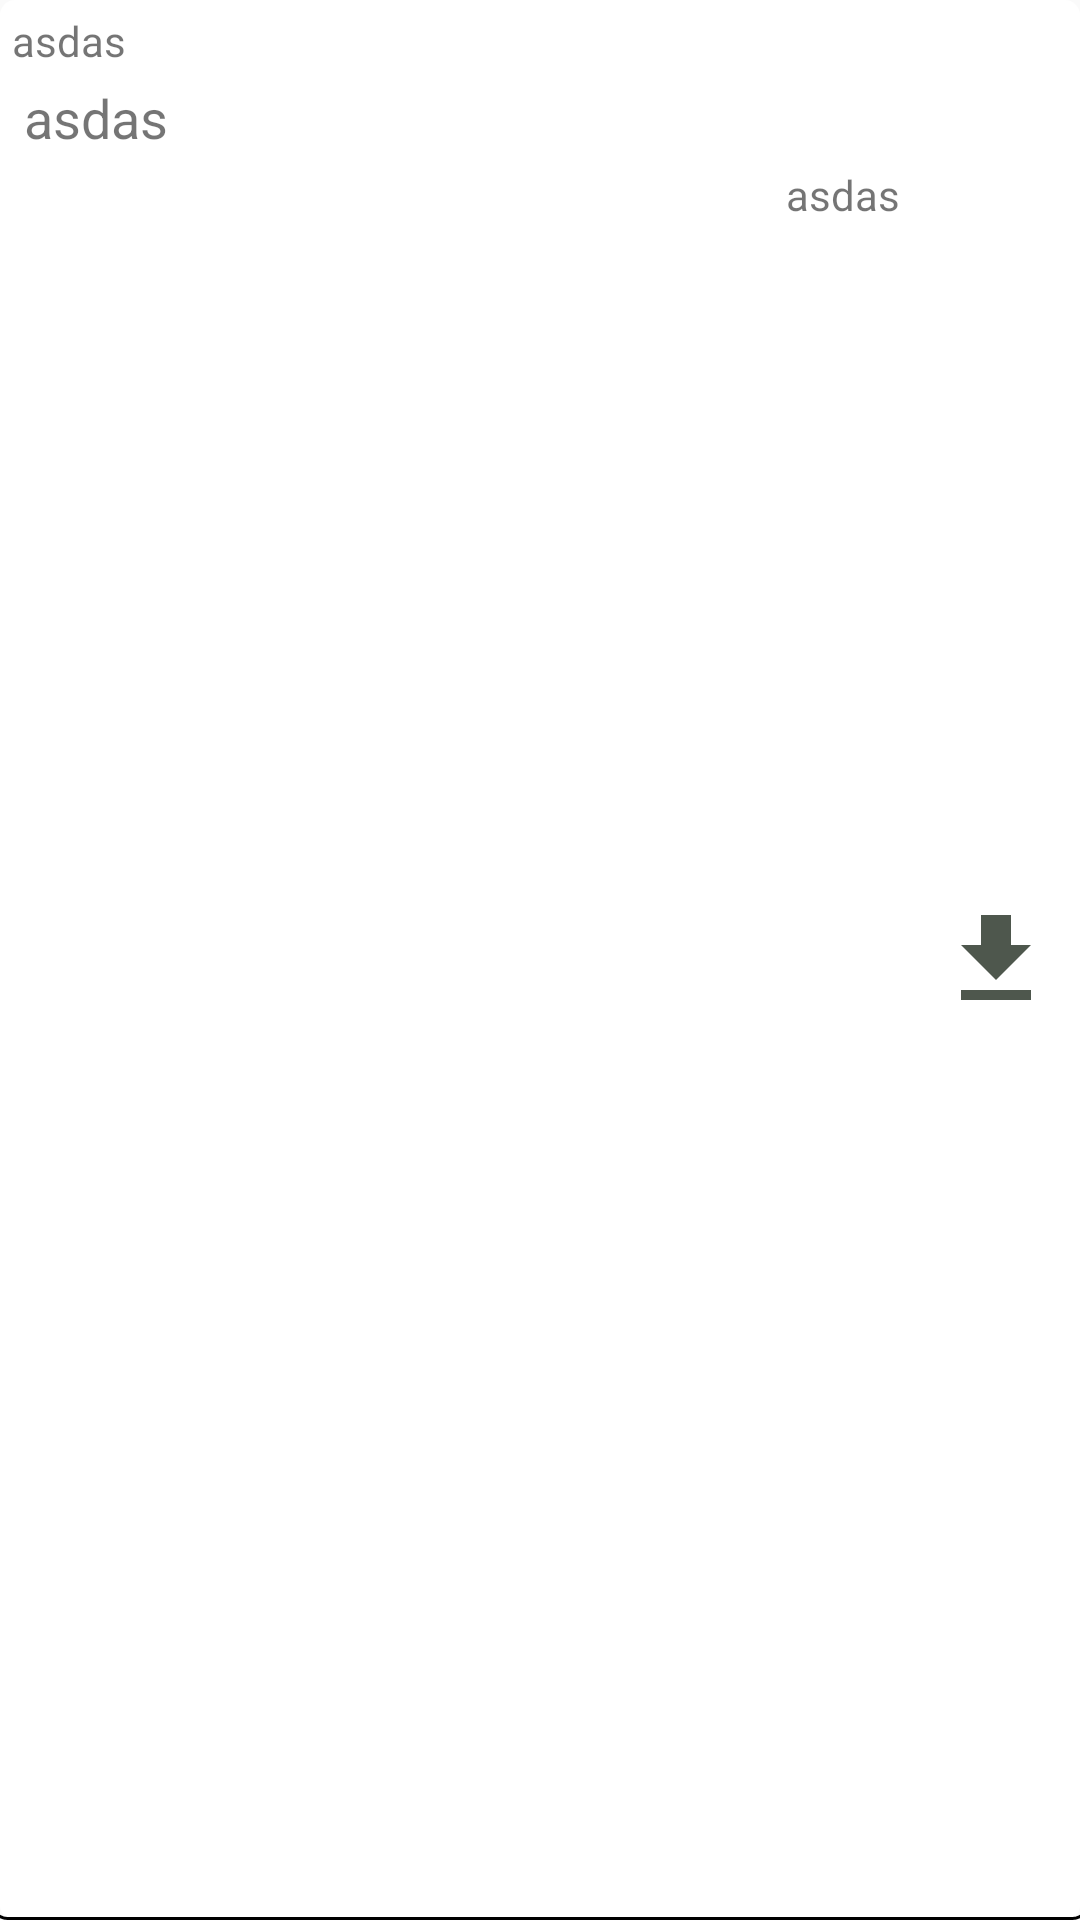

Where to tap for icons on this 1080px×1920px app screen, as (x,y):
file download: (996,957)
